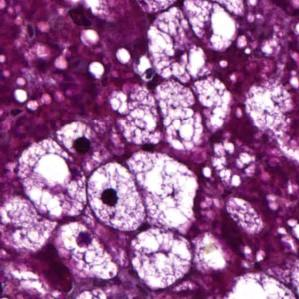ballooning: (16, 135, 88, 220), (144, 4, 210, 87), (84, 160, 149, 234), (128, 226, 196, 294), (154, 77, 208, 154)
